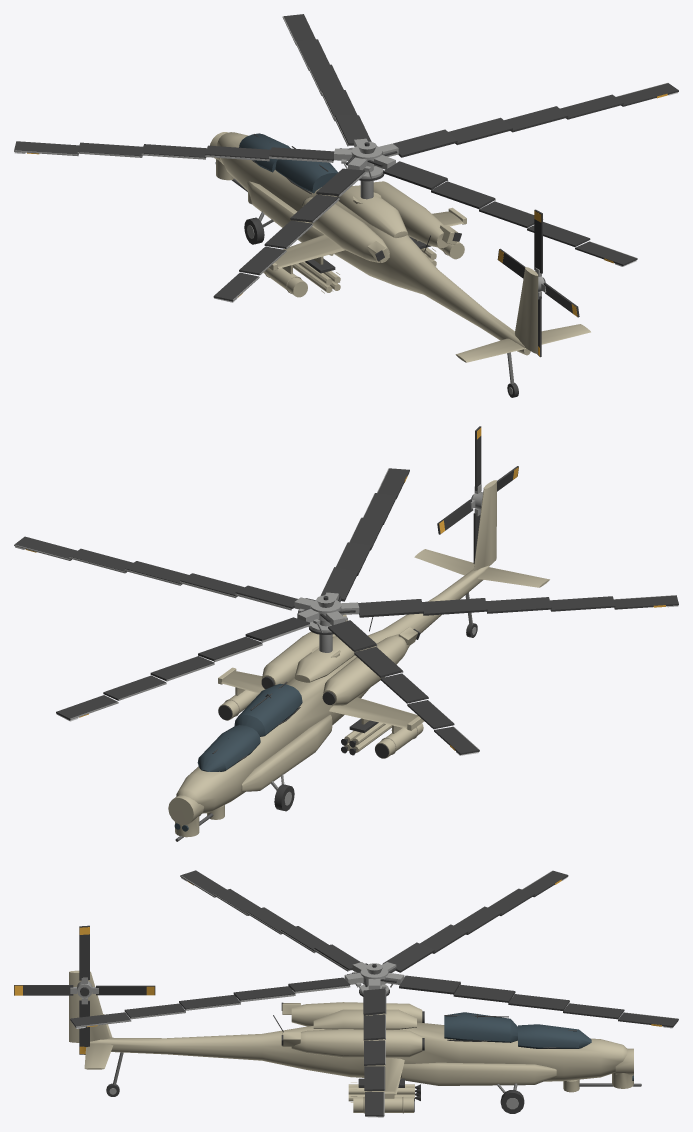
File: rus_heli_mi28n.glb
3 views of the same model, one above another, from view 1: azimuth 30°, elevation 25°; view 2: azimuth 150°, elevation 25°; view 3: azimuth 270°, elevation 25° (orthographic). The views are drawn at different scales.
Parts seen in each view (by area): view 1: body, rotor, trotor; view 2: body, rotor, trotor; view 3: body, rotor, trotor.
Boxes of the visible parts, bbox=[...] form: body: bbox=[210, 132, 590, 397]; rotor: bbox=[14, 14, 678, 302]; trotor: bbox=[497, 209, 579, 357]; body: bbox=[168, 480, 549, 841]; rotor: bbox=[14, 468, 678, 755]; trotor: bbox=[437, 426, 518, 563]; body: bbox=[69, 970, 641, 1113]; rotor: bbox=[70, 870, 678, 1117]; trotor: bbox=[14, 925, 155, 1054].
Bounding box in the file's own units: 15.73 × 5.23 × 18.06.
